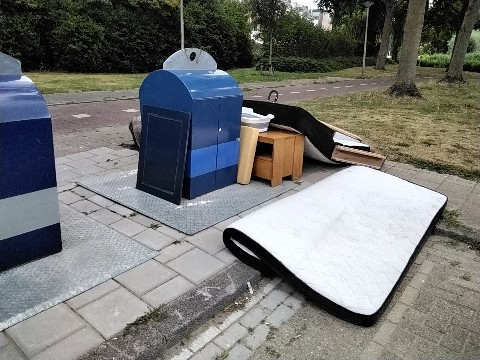Container: (0, 66, 75, 252), (153, 57, 258, 187)
Rest: (220, 120, 436, 335), (261, 95, 388, 181), (128, 108, 194, 190)
